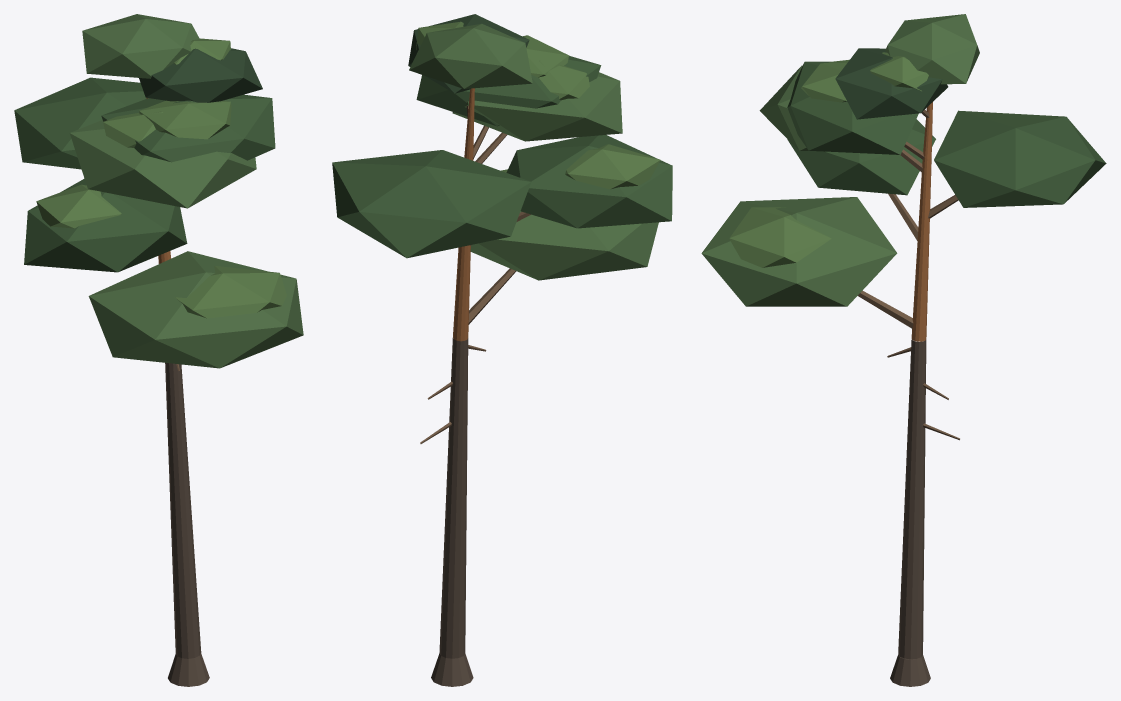
The model's file is pine_b.glb.
3 renders of one model, left to right at view 1: azimuth 30°, elevation 25°; view 2: azimuth 150°, elevation 25°; view 3: azimuth 270°, elevation 25°, orthographic. The views are drawn at different scales.
Parts seen in each view (by area): view 1: pine_b; view 2: pine_b; view 3: pine_b.
Part boxes in pixels (left/top/right/bottom): pine_b: left=14, top=14, right=303, bottom=686; pine_b: left=332, top=14, right=672, bottom=686; pine_b: left=701, top=14, right=1106, bottom=686.
Size of the model in its own units: 6.01 by 14.79 by 8.48.
